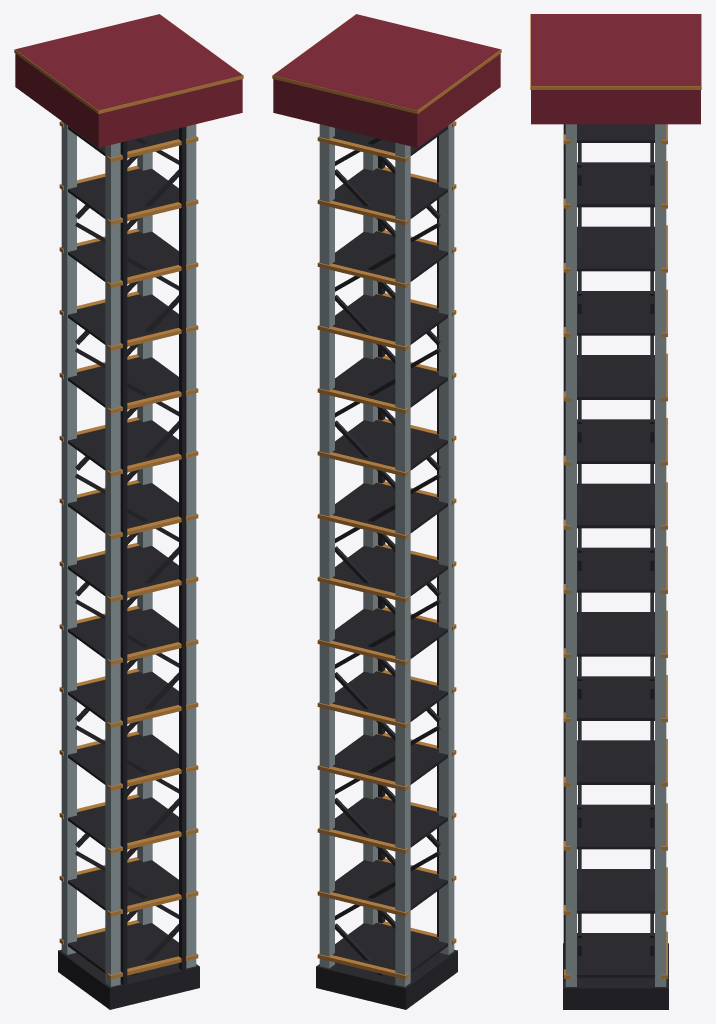
The model's file is mia-drop_tower.glb.
The picture shows the model from 3 angles, left to right: view 1: azimuth 30°, elevation 25°; view 2: azimuth 150°, elevation 25°; view 3: azimuth 270°, elevation 25°; orthographic projection. The views are drawn at different scales.
Parts seen in each view (by area): view 1: Body_iron, Body_steel, Body_velvet, Body_brass; view 2: Body_iron, Body_steel, Body_velvet, Body_brass; view 3: Body_iron, Body_steel, Body_velvet, Body_brass.
Boxes of the visible parts, x1,y1,x2,y2 form: Body_iron: [58, 126, 199, 1009]; Body_steel: [61, 121, 196, 986]; Body_velvet: [15, 14, 242, 147]; Body_brass: [14, 14, 243, 979]; Body_iron: [316, 126, 457, 1009]; Body_steel: [319, 121, 454, 986]; Body_velvet: [273, 14, 500, 147]; Body_brass: [272, 14, 501, 979]; Body_iron: [563, 124, 668, 1009]; Body_steel: [565, 124, 666, 986]; Body_velvet: [531, 14, 700, 124]; Body_brass: [530, 14, 701, 978].
Bounding box in the file's own units: 2.42 × 14.6 × 2.42.
